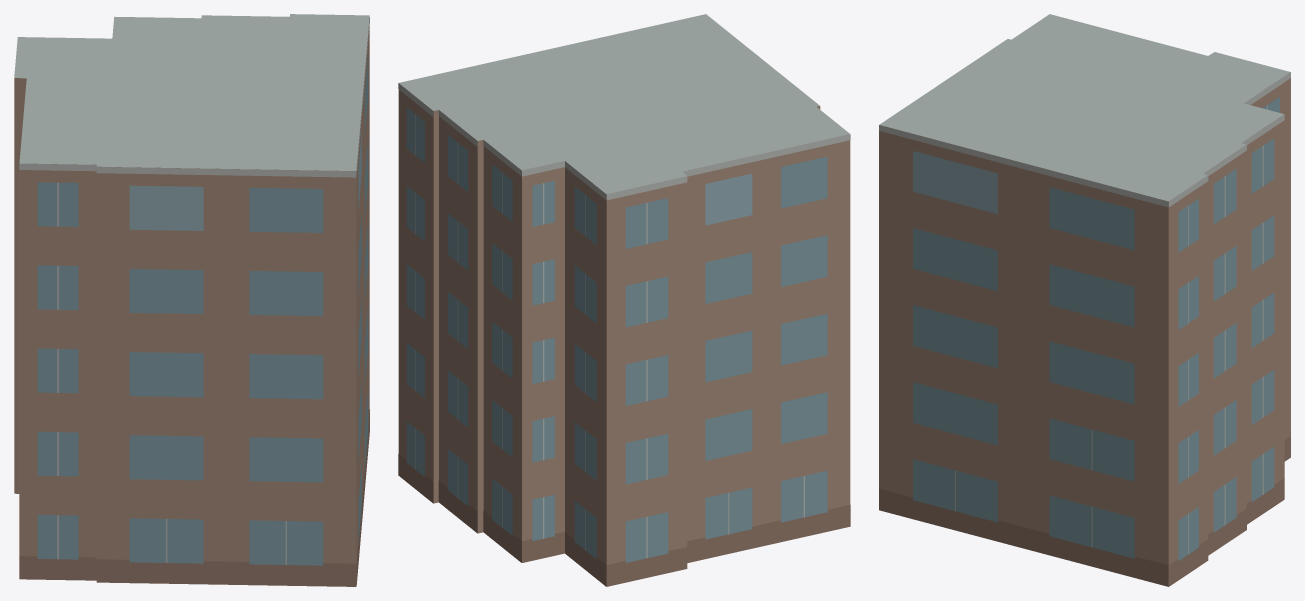
Rendered from survey-upis-32666962.glb.
The picture shows the model from 3 angles, left to right: view 1: azimuth 30°, elevation 25°; view 2: azimuth 150°, elevation 25°; view 3: azimuth 270°, elevation 25°; orthographic projection. The views are drawn at different scales.
Visible parts, largest first — view 1: survey-upis-32666962.tmp; view 2: survey-upis-32666962.tmp; view 3: survey-upis-32666962.tmp.
Boxes of the visible parts, x1=… form: survey-upis-32666962.tmp: x1=14, y1=14, x2=369, y2=586; survey-upis-32666962.tmp: x1=398, y1=14, x2=850, y2=586; survey-upis-32666962.tmp: x1=879, y1=14, x2=1290, y2=586.
Bounding box in the file's own units: 16.34 × 15.65 × 15.16.
